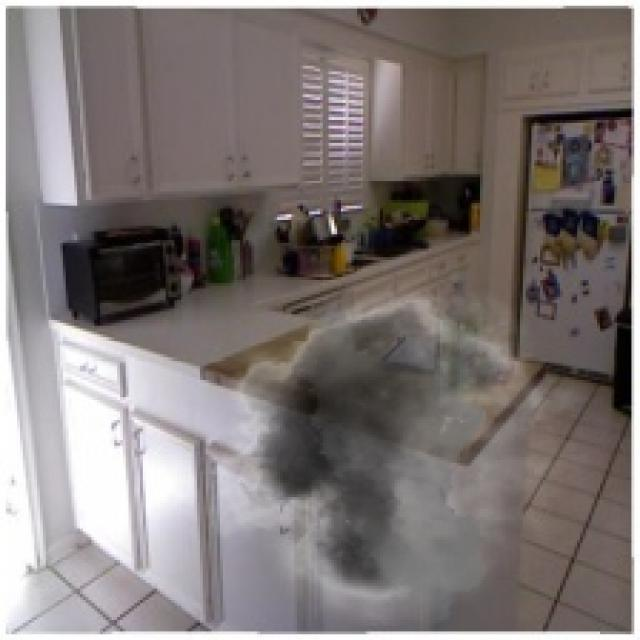Smoke: (188, 271, 592, 626)
